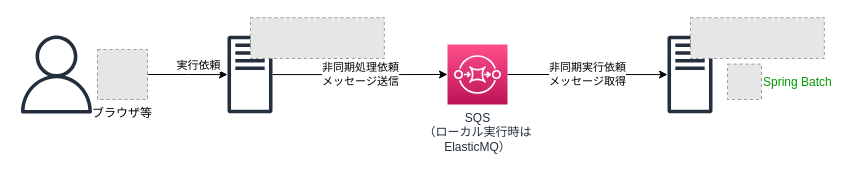
The diagram is 849 pixels wide and 172 high, and some of its shapes have lost their labels. Grey dashed boxes stand in for pictures. The centre of each missing label's shape, as x and y in pixels:
sample-async （非同期処理アプリケーション）: point 689,74
sample-web (Webアプリケーション）: point 249,74
